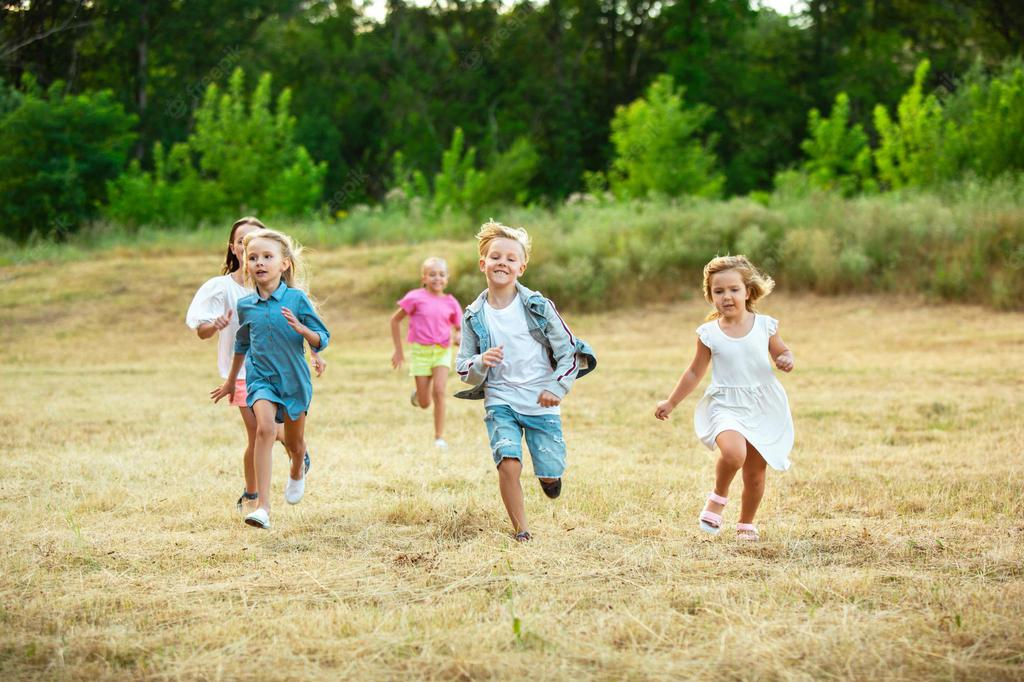child: (642, 245, 832, 563), (446, 220, 610, 541), (222, 230, 339, 543), (386, 248, 461, 465)
